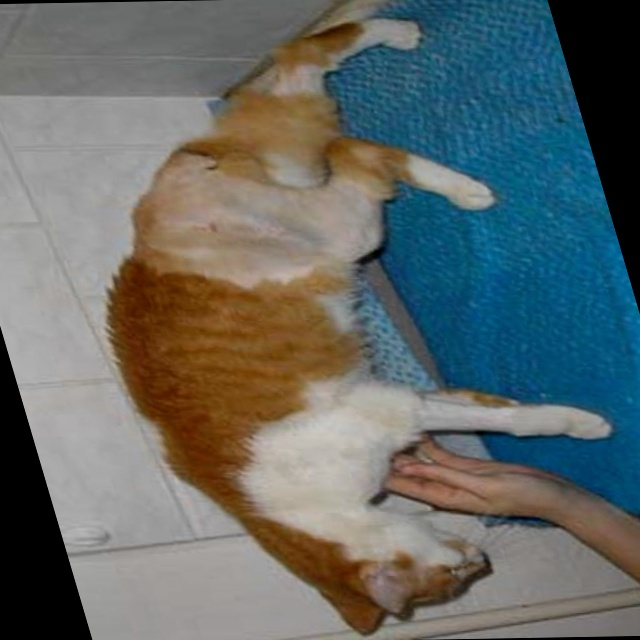hairloss: (252, 394, 494, 549), (128, 178, 392, 280)
